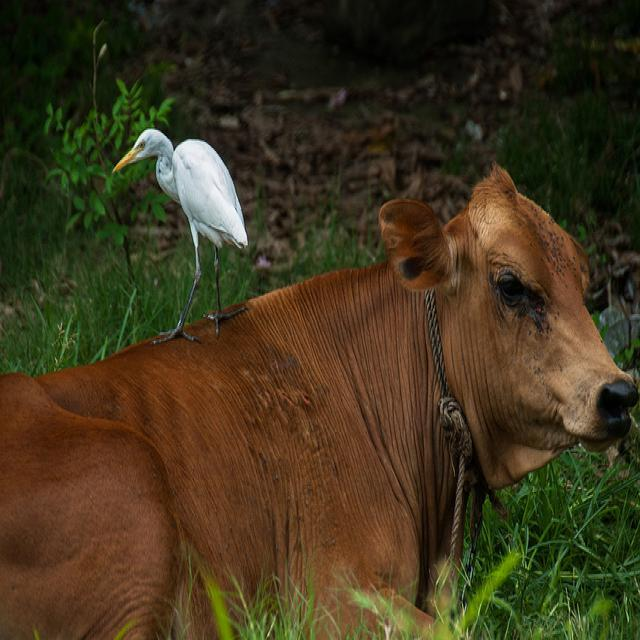cow: (0, 169, 639, 638)
